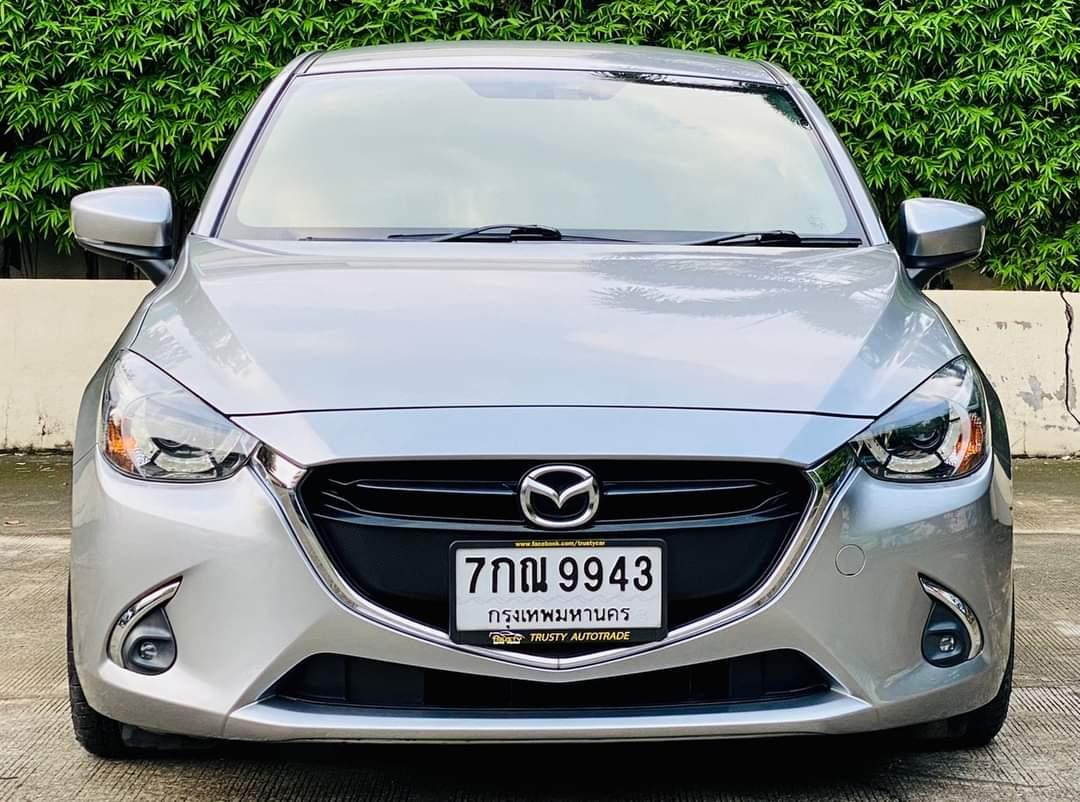license-plate: (443, 531, 672, 657)
